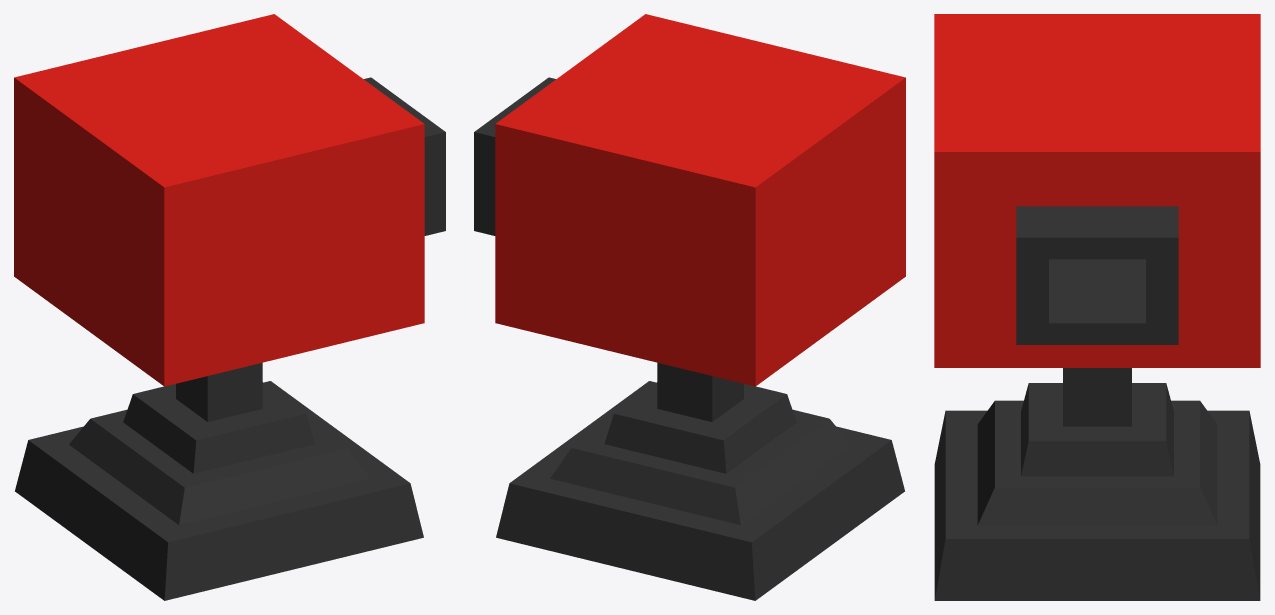
The model's file is Gun.fbx.
3 views of the same model, side by side, from view 1: azimuth 30°, elevation 25°; view 2: azimuth 150°, elevation 25°; view 3: azimuth 270°, elevation 25° (orthographic). The views are drawn at different scales.
Visible parts, largest first — view 1: main Gun, holder; view 2: main Gun, holder; view 3: main Gun, holder.
Boxes of the visible parts, x1,y1,x2,y2 form: main Gun: (14,14,445,386); holder: (15,362,423,600); main Gun: (474,14,905,386); holder: (496,362,904,600); main Gun: (934,14,1260,367); holder: (934,368,1260,600).
Bounding box in the file's own units: 246 × 305 × 201.
